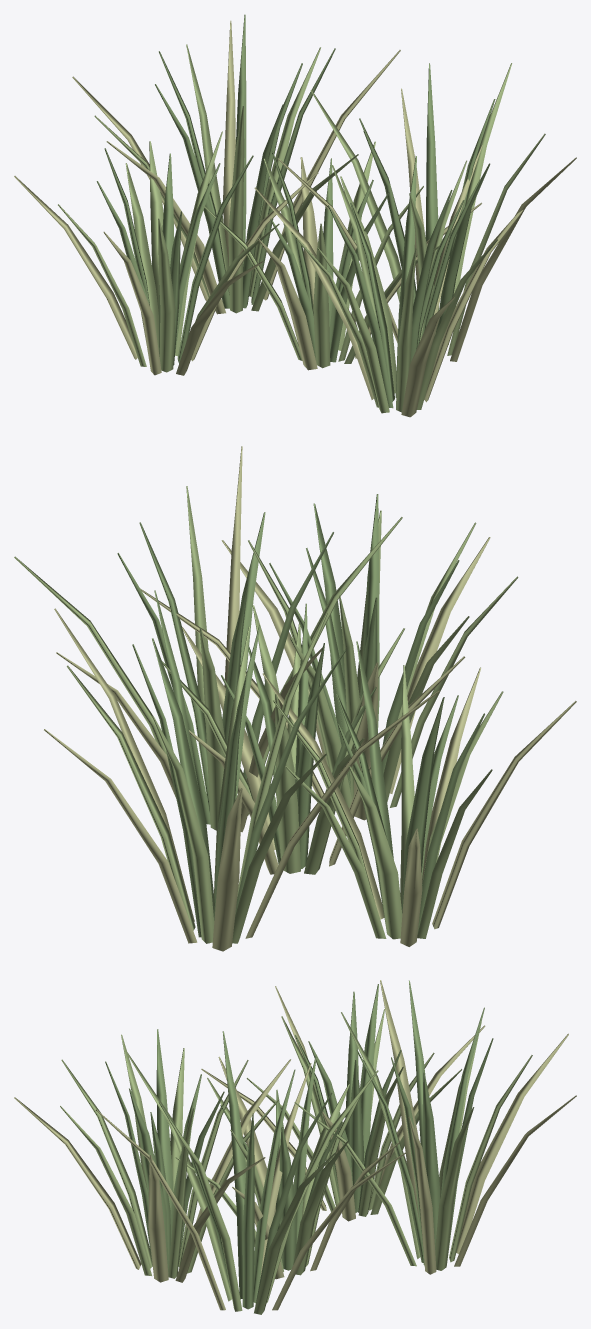
The model's file is campo_grass_2.glb.
3 renders of one model, top to bottom at view 1: azimuth 30°, elevation 25°; view 2: azimuth 150°, elevation 25°; view 3: azimuth 270°, elevation 25°, orthographic. The views are drawn at different scales.
Visible parts, largest first — view 1: CampoGrassFresh, CampoGrassDeep, CampoGrassGold; view 2: CampoGrassFresh, CampoGrassDeep, CampoGrassGold; view 3: CampoGrassDeep, CampoGrassFresh, CampoGrassGold.
Part boxes in pixels (x1=…): CampoGrassFresh: x1=58, y1=44, x2=545, y2=413; CampoGrassDeep: x1=96, y1=14, x2=495, y2=408; CampoGrassGold: x1=14, y1=20, x2=576, y2=417; CampoGrassFresh: x1=14, y1=486, x2=518, y2=943; CampoGrassDeep: x1=117, y1=494, x2=484, y2=937; CampoGrassGold: x1=44, y1=446, x2=576, y2=951; CampoGrassDeep: x1=105, y1=980, x2=493, y2=1309; CampoGrassFresh: x1=60, y1=1009, x2=532, y2=1314; CampoGrassGold: x1=14, y1=980, x2=576, y2=1310.
Size of the model in its own units: 1.21 by 0.6741 by 1.42.
